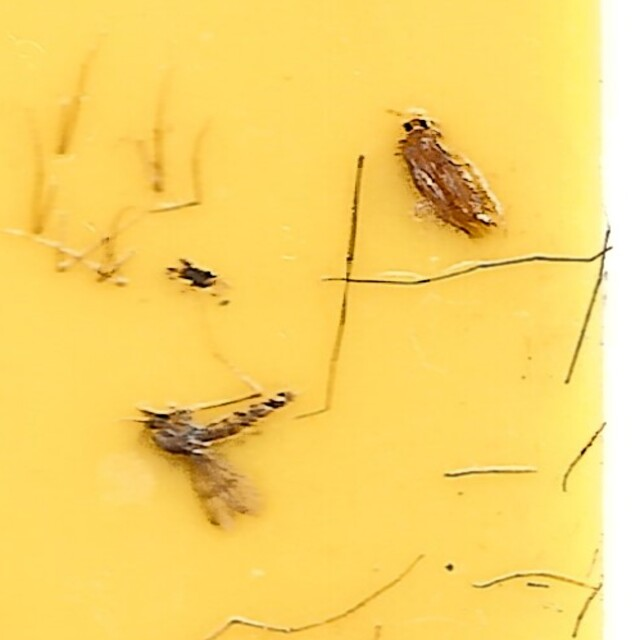Nematocera: (128, 383, 309, 531)
Trichoptera: (398, 109, 512, 244)
